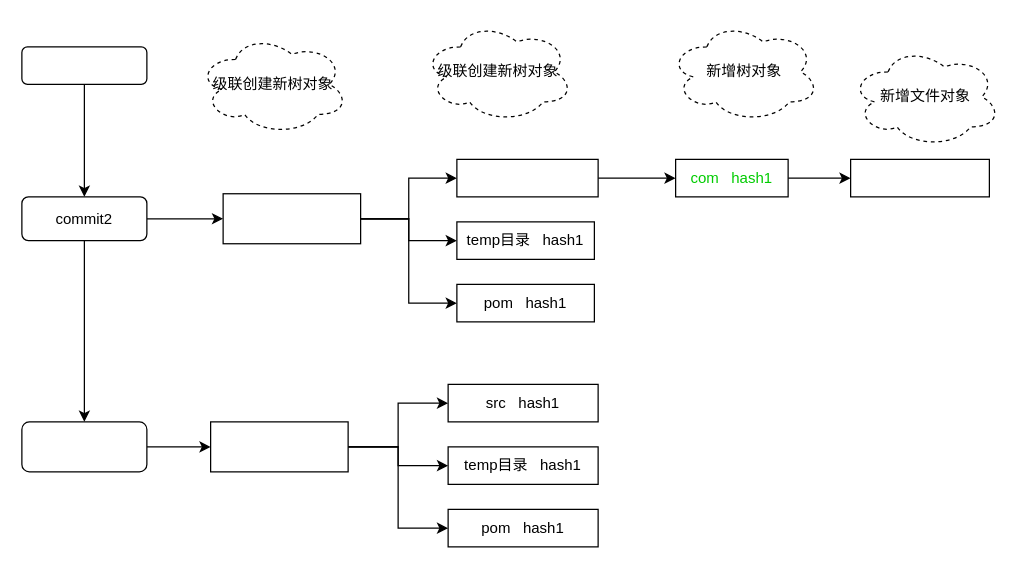
This 1023x569 diagram has some shape labels left out. Each missing label, with the centre of its shape:
"App.java hash1" goes at (919,177).
"commit 1" goes at (84,446).
"commit3" goes at (84,65).
"src hash2" goes at (527,177).
"项目目录 hash1" goes at (278,446).
"项目目录 hash2" goes at (291,218).
